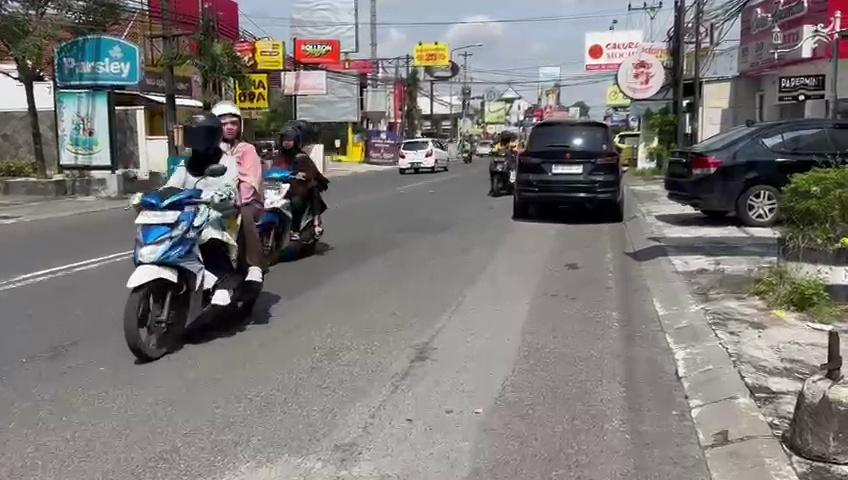helm: (182, 110, 225, 154), (210, 100, 246, 140)
riding: (122, 99, 267, 363)
